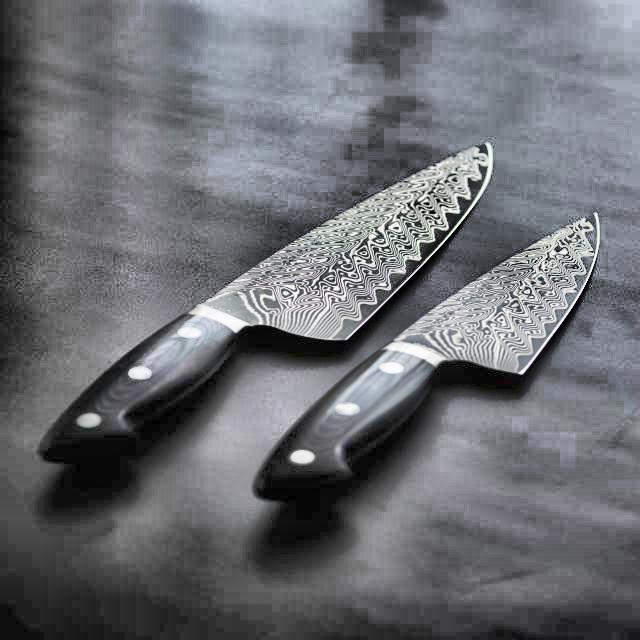knife: (16, 141, 496, 484), (248, 208, 612, 500)
